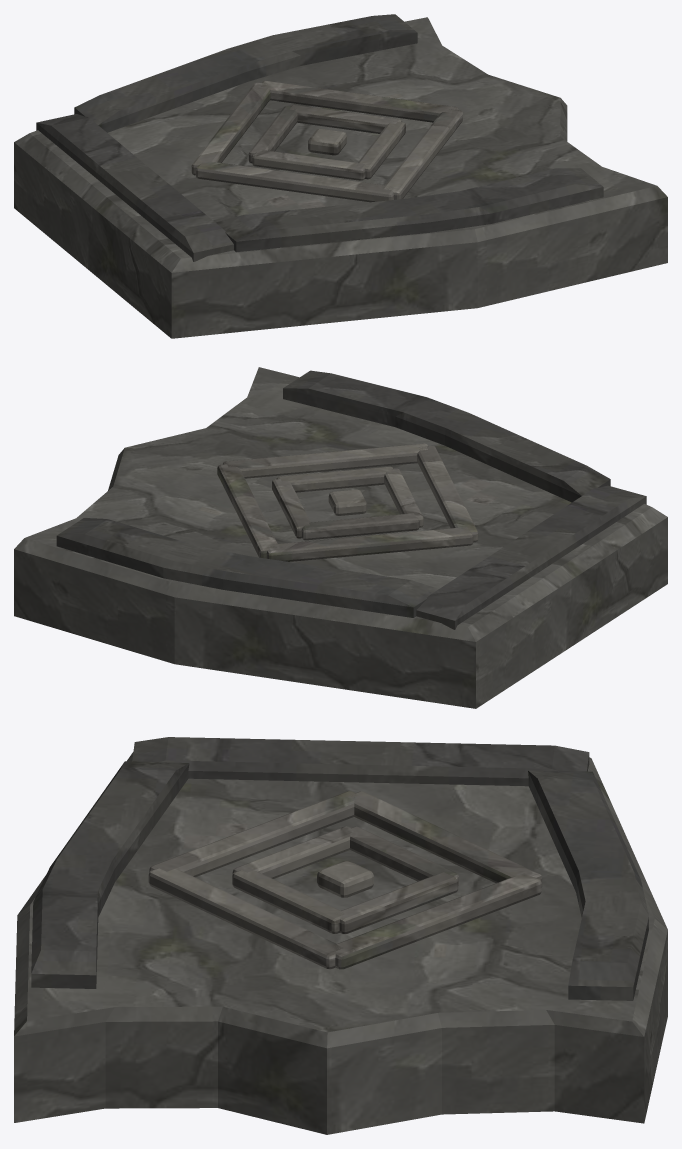
Rendered from junk_coffin_piece_a.glb.
3 views of the same model, one above another, from view 1: azimuth 30°, elevation 25°; view 2: azimuth 150°, elevation 25°; view 3: azimuth 270°, elevation 25° (orthographic). The views are drawn at different scales.
Parts seen in each view (by area): view 1: model; view 2: model; view 3: model.
Boxes of the visible parts, left/top/right/bottom form: model: left=14, top=14, right=667, bottom=338; model: left=14, top=367, right=667, bottom=708; model: left=14, top=737, right=667, bottom=1134.
Bounding box in the file's own units: 0.6545 × 0.122 × 0.6022.
Materials: 3 (3 with a texture image).
